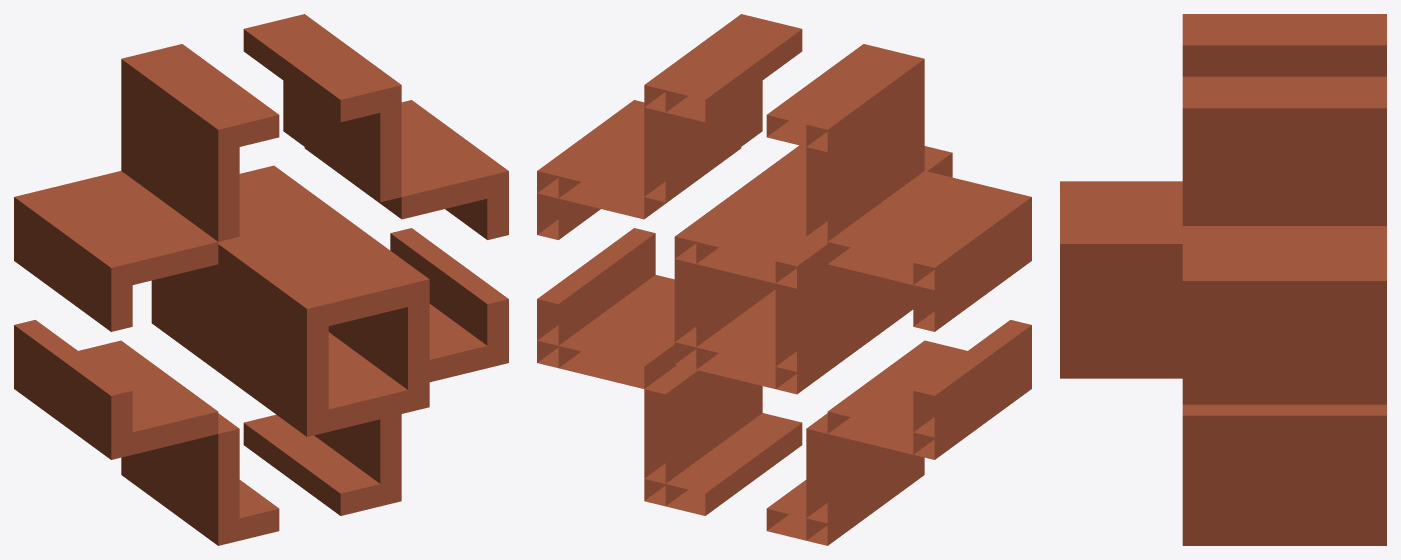
The model's file is construction_1.glb.
3 renders of one model, left to right at view 1: azimuth 30°, elevation 25°; view 2: azimuth 150°, elevation 25°; view 3: azimuth 270°, elevation 25°, orthographic. The views are drawn at different scales.
Parts seen in each view (by area): view 1: c1_shell; view 2: c1_shell; view 3: c1_shell.
Boxes of the visible parts, left/top/right/bottom form: c1_shell: left=14, top=14, right=508, bottom=545; c1_shell: left=537, top=14, right=1031, bottom=545; c1_shell: left=1060, top=14, right=1386, bottom=545.
Bounding box in the file's own units: 13 × 13 × 8.8.
